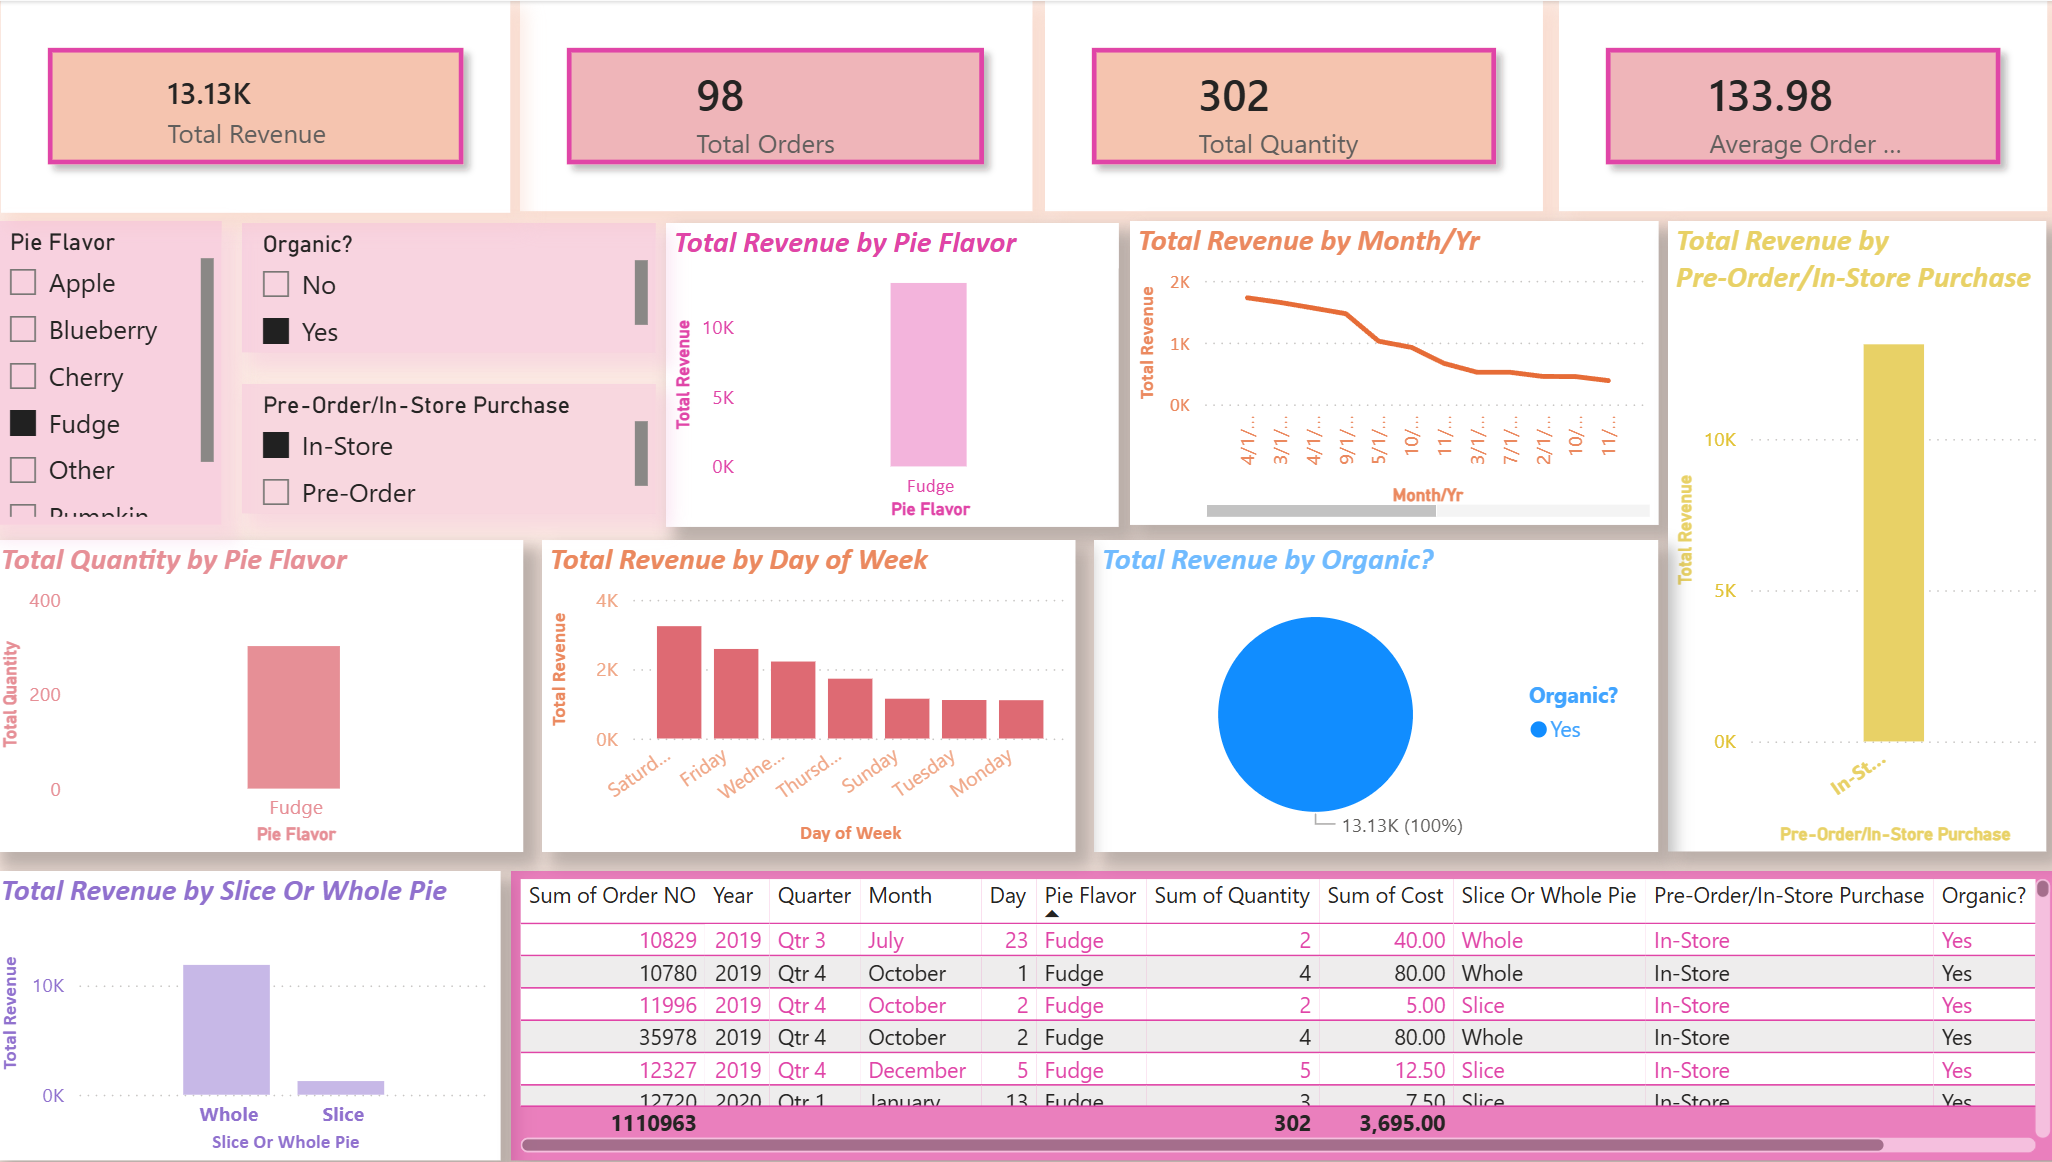

Layout of this report page (visuals, bound fields, positions):
{"tool":"powerbi","page":{"name":"Page 1","canvas":[1280,720],"ordinal":0},"visuals":[{"type":"cardVisual","fields":{"Data":["pie_bakery_data.Total Orders"]},"box":[328.2,0,317,130.3],"z":0},{"type":"cardVisual","fields":{"Data":["pie_bakery_data.Total Quantity"]},"box":[653,0,308.3,130.3],"z":1000},{"type":"cardVisual","fields":{"Data":["pie_bakery_data.Average Order Value"]},"box":[970.9,0,302.2,130.3],"z":2000},{"type":"cardVisual","fields":{"Data":["pie_bakery_data.Total Revenue"]},"box":[7.4,0,315.5,130.5],"z":3000},{"type":"clusteredColumnChart","fields":{"Category":["pie_bakery_data.Pie Flavor"],"Y":["pie_bakery_data.Total Revenue"]},"box":[418.6,137.2,280.5,187.6],"z":4000},{"type":"clusteredColumnChart","fields":{"Category":["pie_bakery_data.Pie Flavor"],"Y":["pie_bakery_data.Total Quantity"]},"box":[2.6,333.5,328.2,192.8],"z":5000},{"type":"lineChart","fields":{"Category":["pie_bakery_data.Month/Yr"],"Y":["pie_bakery_data.Total Revenue"]},"box":[706,136.3,326.5,188.4],"z":6000},{"type":"clusteredColumnChart","fields":{"Category":["pie_bakery_data.Pre-Order/In-Store Purchase"],"Y":["pie_bakery_data.Total Revenue"]},"box":[1038.6,136.3,234.5,389.9],"z":7000},{"type":"clusteredColumnChart","fields":{"Category":["pie_bakery_data.Slice Or Whole Pie"],"Y":["pie_bakery_data.Total Revenue"]},"box":[2.5,538.1,313.6,179.4],"z":8000},{"type":"pieChart","fields":{"Category":["pie_bakery_data.Organic?"],"Y":["pie_bakery_data.Total Revenue"]},"box":[683.4,333.5,349.1,192.8],"z":9000},{"type":"clusteredColumnChart","fields":{"Category":["pie_bakery_data.Day of Week"],"Y":["pie_bakery_data.Total Revenue"]},"box":[342.1,333.5,330,192.8],"z":10000},{"type":"slicer","fields":{"Values":["pie_bakery_data.Pie Flavor"]},"box":[0,136.3,144.2,188.4],"z":11000},{"type":"slicer","fields":{"Values":["pie_bakery_data.Pre-Order/In-Store Purchase"]},"box":[156.5,236.9,256.1,80.4],"z":12000},{"type":"slicer","fields":{"Values":["pie_bakery_data.Organic?"]},"box":[156.5,137.3,256.1,80.4],"z":13000},{"type":"tableEx","fields":{"Values":["Sum(pie_bakery_data.Order NO)","pie_bakery_data.Order Date.Variation.Date Hierarchy.Year","pie_bakery_data.Order Date.Variation.Date Hierarchy.Quarter","pie_bakery_data.Order Date.Variation.Date Hierarchy.Month","pie_bakery_data.Order Date.Variation.Date Hierarchy.Day","pie_bakery_data.Pie Flavor","Sum(pie_bakery_data.Quantity)","Sum(pie_bakery_data.Cost)","pie_bakery_data.Slice Or Whole Pie","pie_bakery_data.Pre-Order/In-Store Purchase","pie_bakery_data.Organic?","Sum(pie_bakery_data.revenue)"]},"box":[323,538.4,957,178.9],"z":14000}]}

Visuals, with their boxes in screenshot pixels (x1, y1, x2, y2), scaled from the page's 1280x720 canvas onto the 2052x1162 screenshot:
cardVisual - pie_bakery_data.Total Orders: [526, 0, 1034, 210]
cardVisual - pie_bakery_data.Total Quantity: [1047, 0, 1541, 210]
cardVisual - pie_bakery_data.Average Order Value: [1556, 0, 2041, 210]
cardVisual - pie_bakery_data.Total Revenue: [12, 0, 518, 211]
clusteredColumnChart - pie_bakery_data.Pie Flavor x pie_bakery_data.Total Revenue: [671, 221, 1121, 524]
clusteredColumnChart - pie_bakery_data.Pie Flavor x pie_bakery_data.Total Quantity: [4, 538, 530, 849]
lineChart - pie_bakery_data.Month/Yr x pie_bakery_data.Total Revenue: [1132, 220, 1655, 524]
clusteredColumnChart - pie_bakery_data.Pre-Order/In-Store Purchase x pie_bakery_data.Total Revenue: [1665, 220, 2041, 849]
clusteredColumnChart - pie_bakery_data.Slice Or Whole Pie x pie_bakery_data.Total Revenue: [4, 868, 507, 1158]
pieChart - pie_bakery_data.Organic? x pie_bakery_data.Total Revenue: [1096, 538, 1655, 849]
clusteredColumnChart - pie_bakery_data.Day of Week x pie_bakery_data.Total Revenue: [548, 538, 1077, 849]
slicer - pie_bakery_data.Pie Flavor: [0, 220, 231, 524]
slicer - pie_bakery_data.Pre-Order/In-Store Purchase: [251, 382, 661, 512]
slicer - pie_bakery_data.Organic?: [251, 222, 661, 351]
tableEx - Sum(pie_bakery_data.Order NO) x pie_bakery_data.Order Date.Variation.Date Hierarchy.Year: [518, 869, 2051, 1158]
